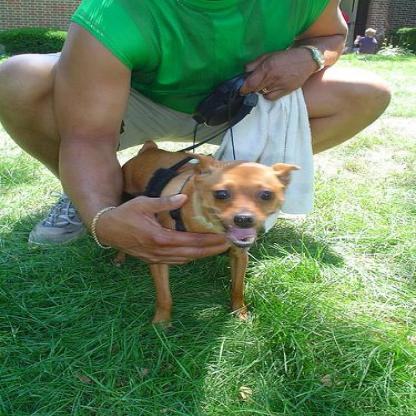miniature_pinscher: (116, 136, 300, 324)
